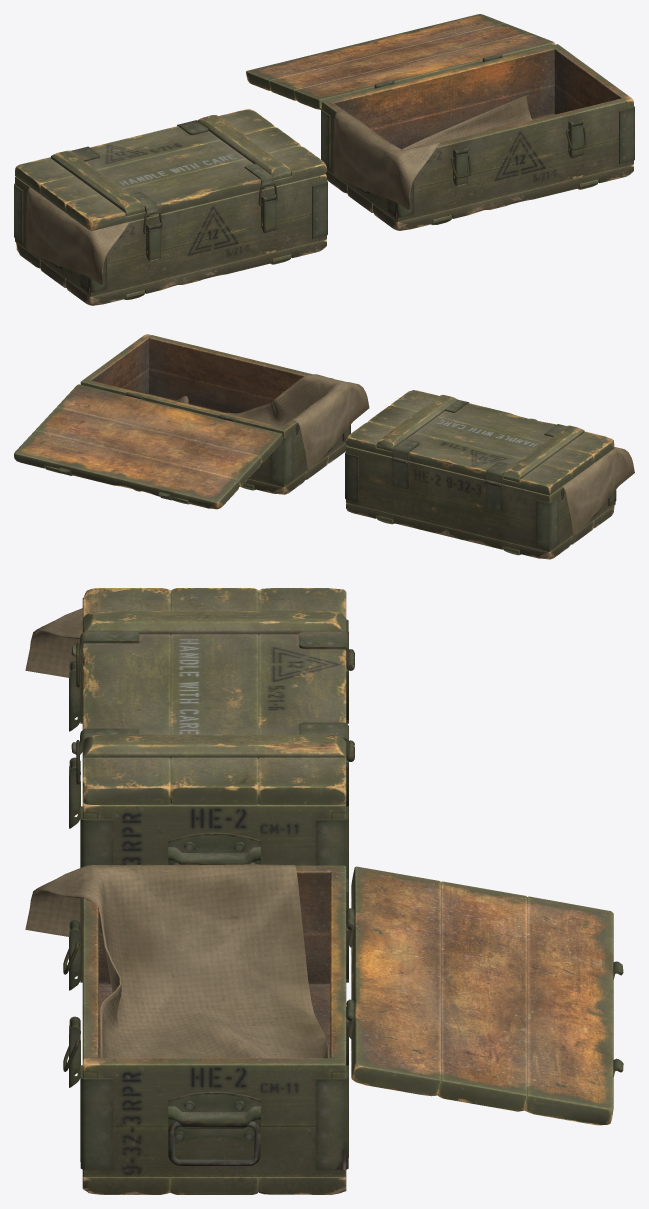
File: old_military_crate.glb
The picture shows the model from 3 angles, top to bottom: view 1: azimuth 30°, elevation 25°; view 2: azimuth 150°, elevation 25°; view 3: azimuth 270°, elevation 25°; orthographic projection. The views are drawn at different scales.
Visible parts, largest first — view 1: old_military_crate_b, old_military_crate_lid_a, old_military_crate_a, old_military_crate_lid_b, old_military_crate_cloth_b, old_military_crate_cloth_a, old_military_crate_latch_a, old_military_crate_latch_b; view 2: old_military_crate_lid_b, old_military_crate_lid_a, old_military_crate_a, old_military_crate_b, old_military_crate_cloth_b, old_military_crate_cloth_a; view 3: old_military_crate_lid_a, old_military_crate_lid_b, old_military_crate_b, old_military_crate_cloth_b, old_military_crate_a, old_military_crate_cloth_a, old_military_crate_latch_b, old_military_crate_latch_a.
Part boxes in pixels (x1,y1,x2,y2): old_military_crate_b: [321, 44, 634, 230]; old_military_crate_lid_a: [15, 109, 326, 230]; old_military_crate_a: [14, 174, 327, 305]; old_military_crate_lid_b: [246, 14, 555, 109]; old_military_crate_cloth_b: [333, 95, 532, 209]; old_military_crate_cloth_a: [26, 187, 129, 284]; old_military_crate_latch_a: [146, 194, 276, 261]; old_military_crate_latch_b: [453, 119, 583, 186]; old_military_crate_lid_b: [14, 384, 282, 509]; old_military_crate_lid_a: [346, 390, 614, 495]; old_military_crate_a: [345, 446, 616, 559]; old_military_crate_b: [80, 334, 350, 494]; old_military_crate_cloth_b: [174, 374, 369, 470]; old_military_crate_cloth_a: [562, 447, 634, 535]; old_military_crate_lid_a: [71, 588, 354, 804]; old_military_crate_lid_b: [346, 866, 623, 1125]; old_military_crate_b: [80, 865, 354, 1194]; old_military_crate_cloth_b: [25, 864, 328, 1058]; old_military_crate_a: [80, 619, 354, 890]; old_military_crate_cloth_a: [25, 608, 82, 677]; old_military_crate_latch_b: [69, 919, 80, 1087]; old_military_crate_latch_a: [69, 660, 80, 828].
Bounding box in the file's own units: 1.82 × 0.3009 × 0.9757.
Materials: 1 (1 with a texture image).
